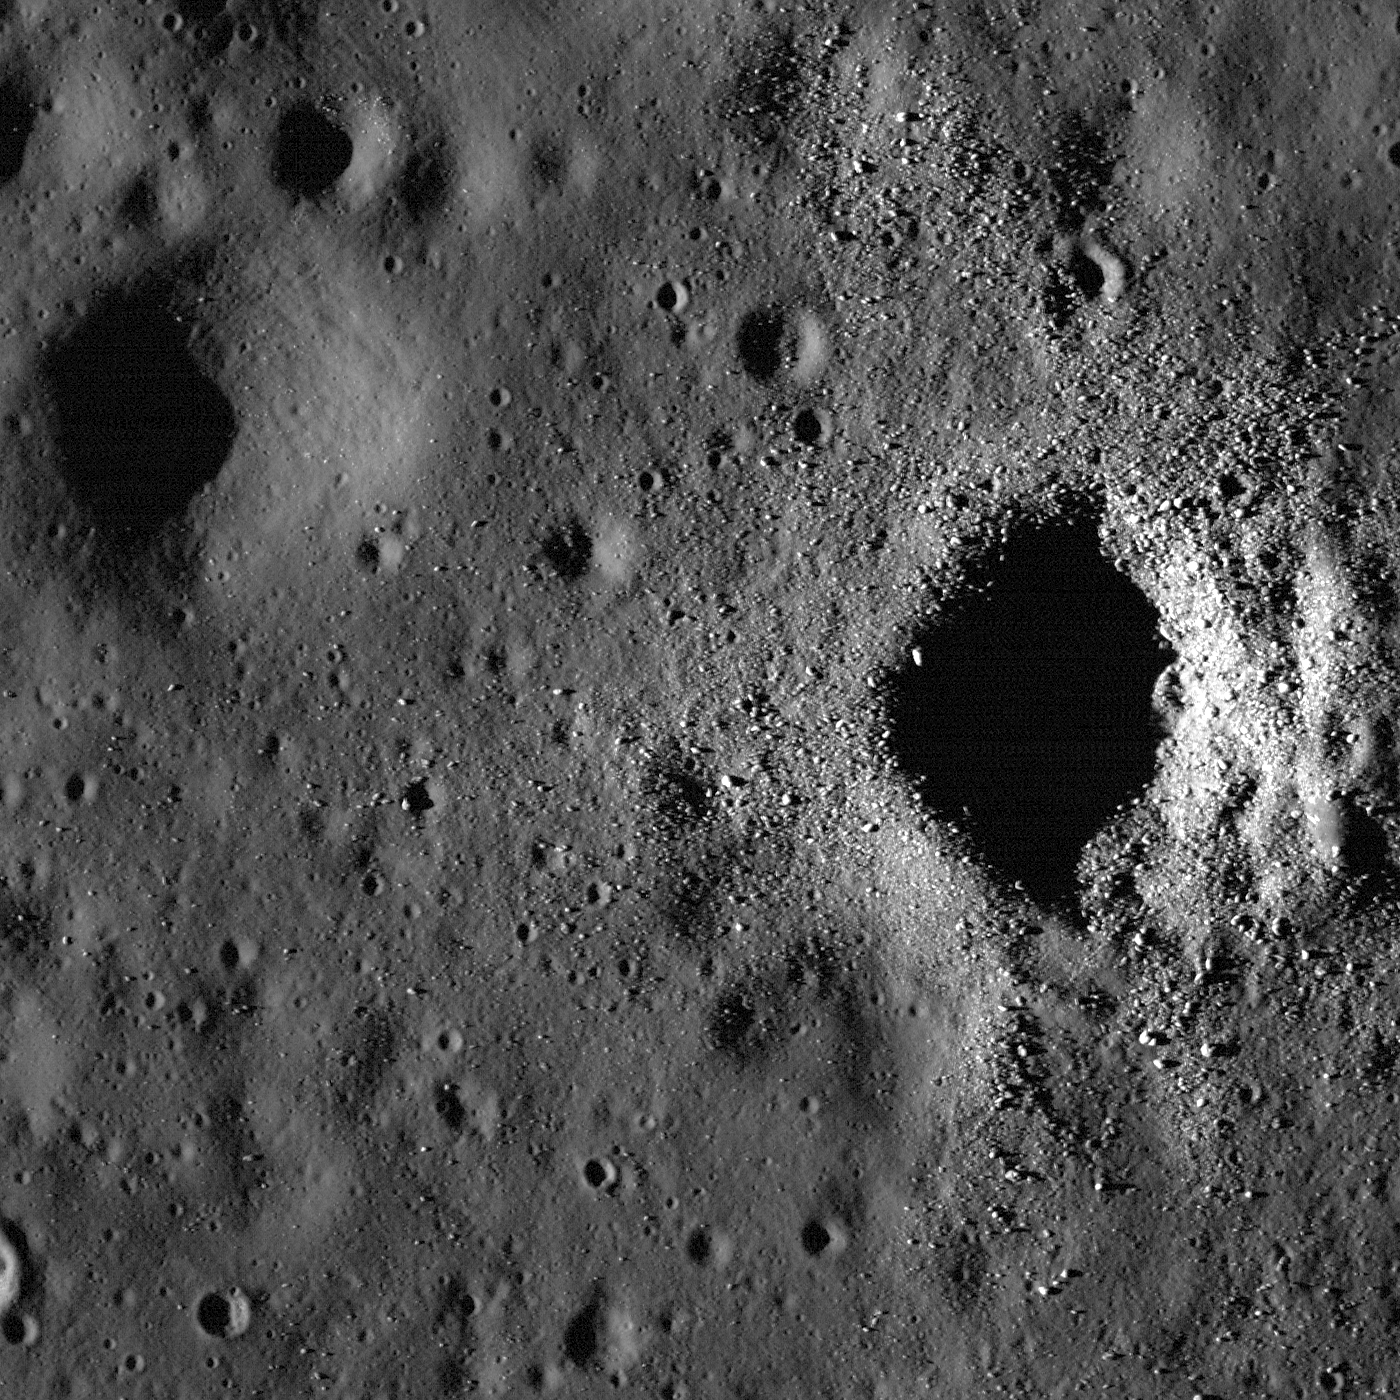crater: (785, 451, 1332, 1071), (218, 32, 477, 247), (542, 1265, 668, 1387), (488, 101, 615, 215), (162, 1249, 276, 1358), (328, 501, 438, 601), (556, 1137, 668, 1224), (771, 1187, 867, 1274), (212, 919, 287, 991)
